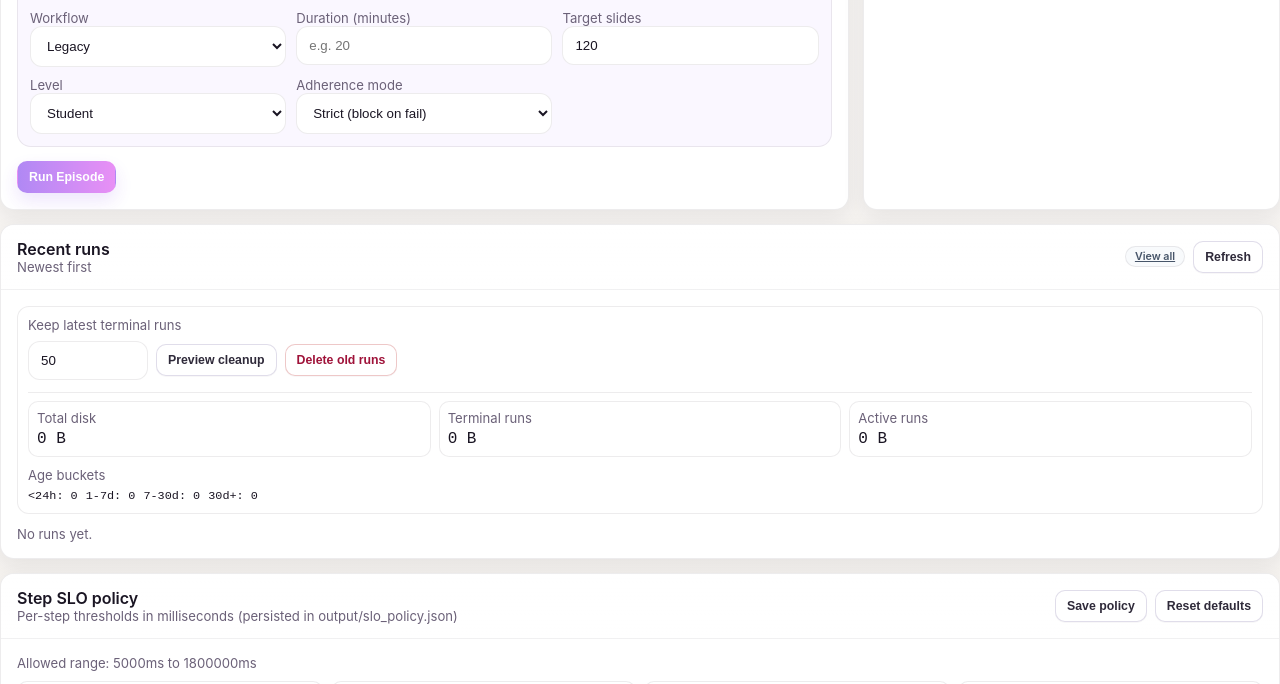
it: ChatStart › loads retention policy and allows cleanup preview + delete
(page scrolled)
Replace the text in the number field labelled "Keep latest terminal runs" with "10" at (88, 360), box [28,341,148,380]
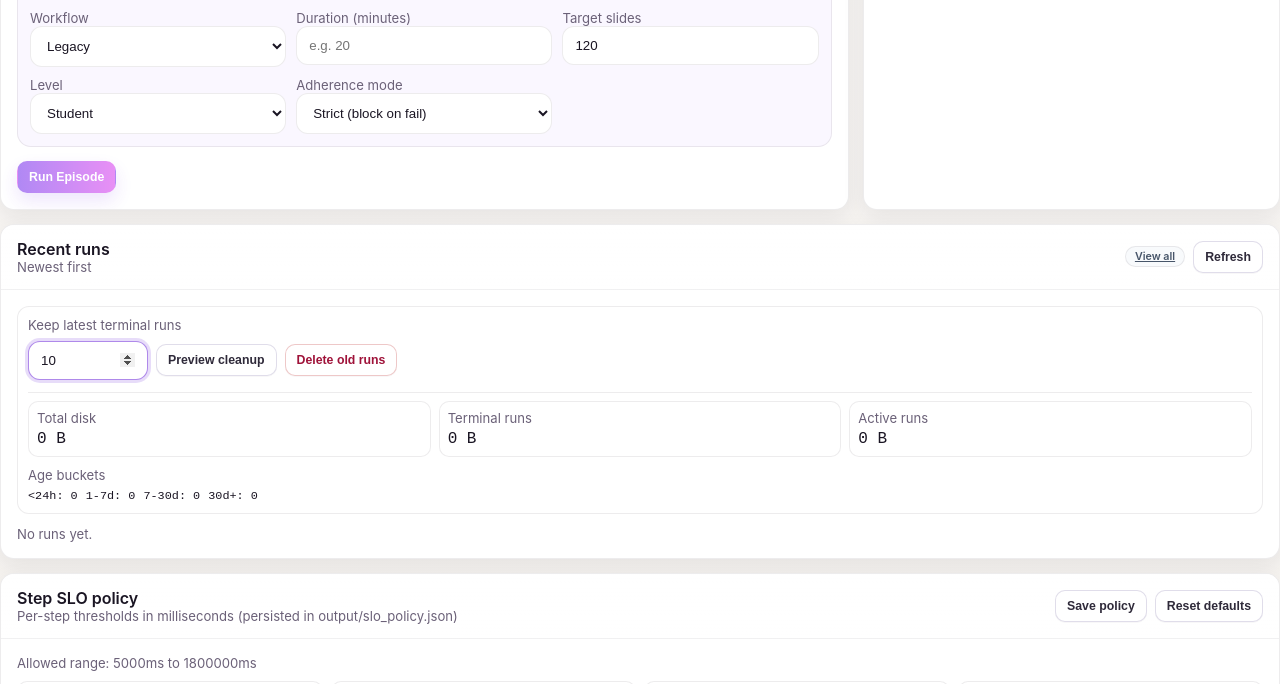
Click the button "Preview cleanup" at (216, 360), box [156,344,276,376]
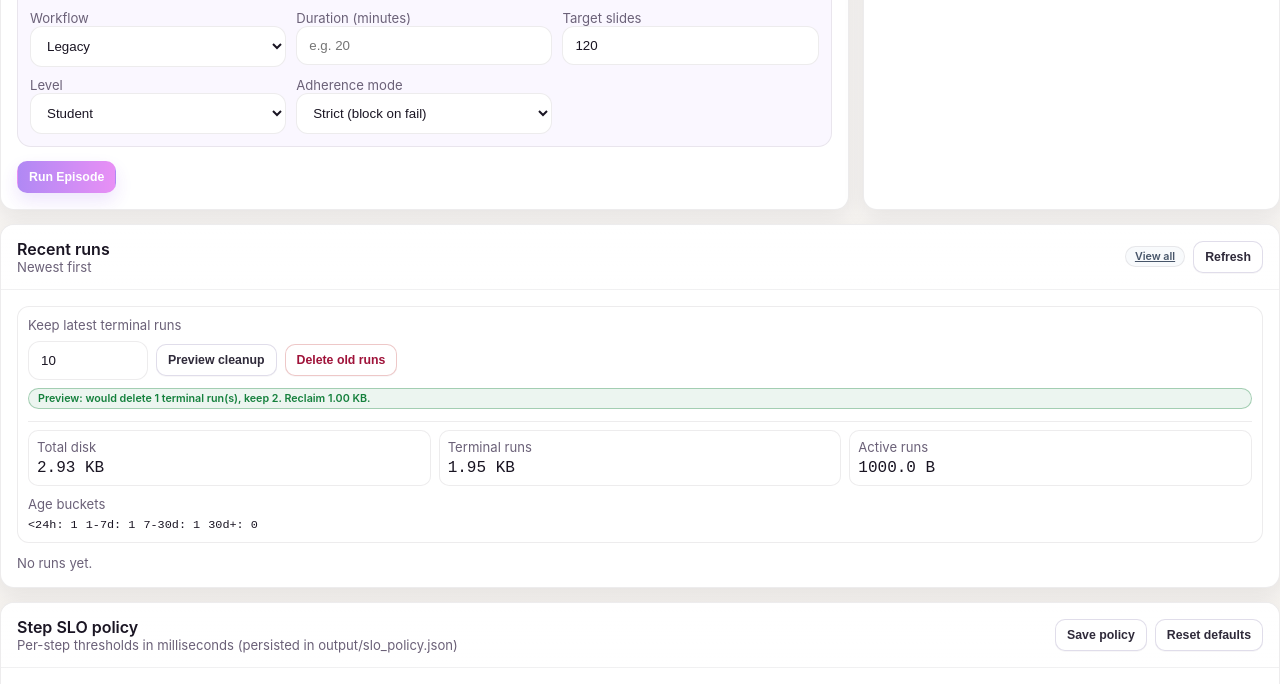
expect the text "Reclaim 1.00 KB" is shown: met, box [38,392,370,405]
Click the button "Delete old runs" at (341, 360), box [284,344,398,376]
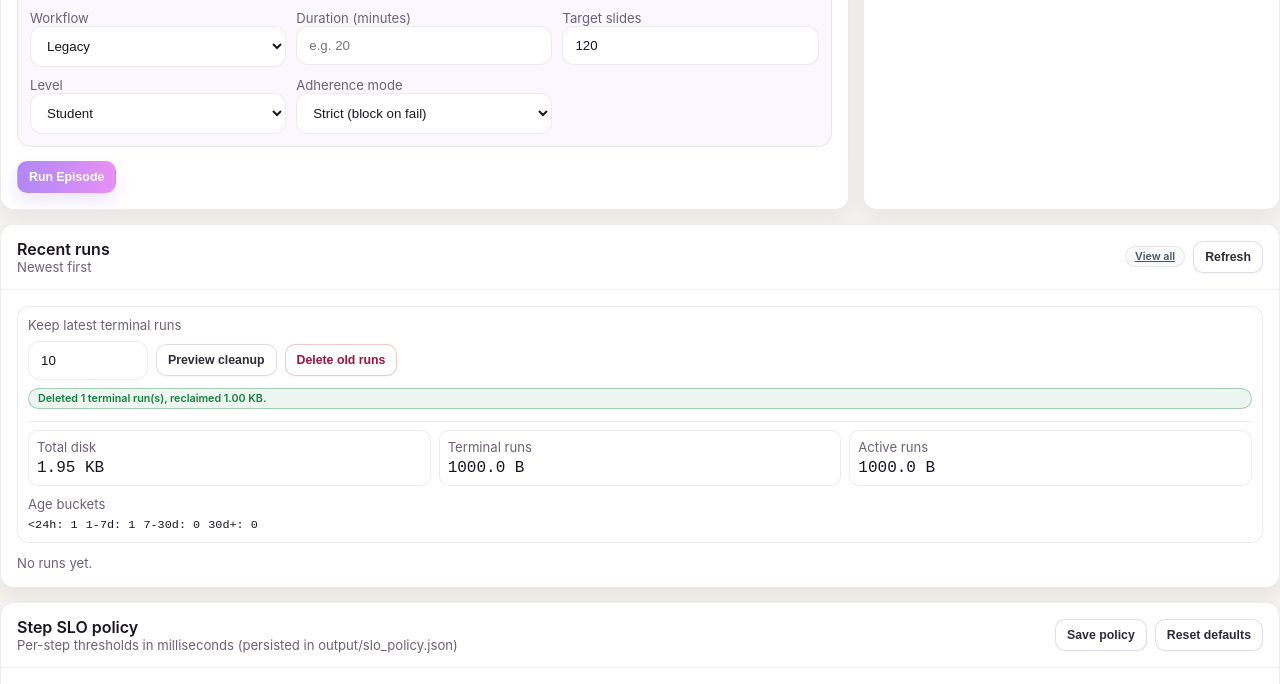
expect the text "Deleted 1 terminal run(s), reclaimed 1.00 KB." is shown: met, box [28,388,1252,409]
